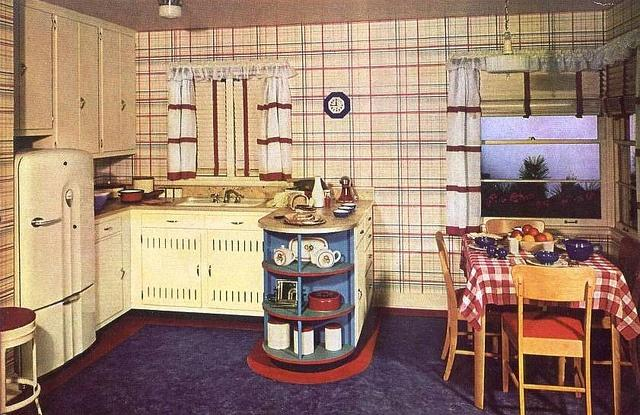Kursi: (499, 263, 597, 414), (434, 230, 474, 380)
